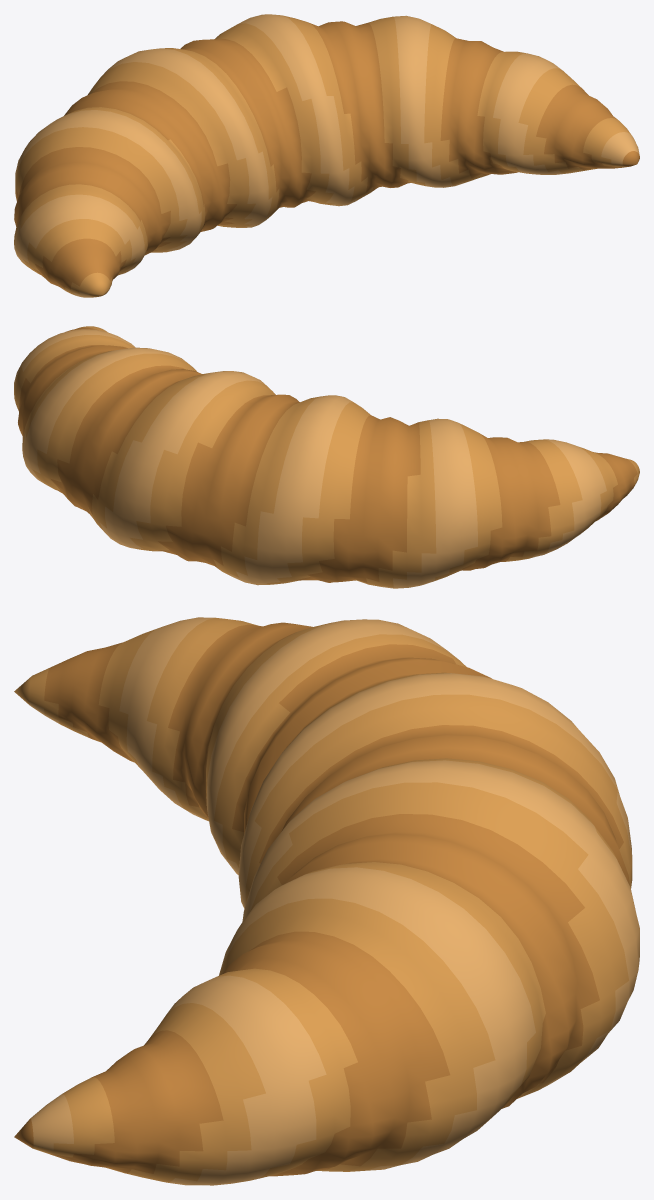
The picture shows the model from 3 angles, top to bottom: view 1: azimuth 30°, elevation 25°; view 2: azimuth 150°, elevation 25°; view 3: azimuth 270°, elevation 25°; orthographic projection. The views are drawn at different scales.
Parts seen in each view (by area): view 1: NEW305_Croissant_LOD1; view 2: NEW305_Croissant_LOD1; view 3: NEW305_Croissant_LOD1.
Part boxes in pixels (x1,y1,x2,y2): NEW305_Croissant_LOD1: (14,14,639,297); NEW305_Croissant_LOD1: (14,326,639,588); NEW305_Croissant_LOD1: (14,617,639,1185).
Size of the model in its own units: 0.1819 by 0.0531 by 0.1007.
